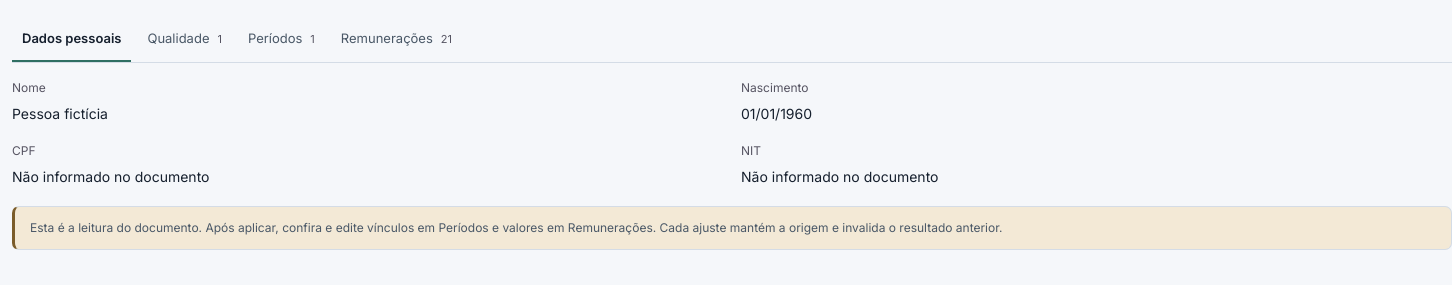
Scenario: CNIS source review › keeps absent end dates explicit and does not alter the imported source
This screenshot has width=1452, height=285.
Click the tab "Períodos1" at coordinates (281, 39), box [238, 16, 325, 62]
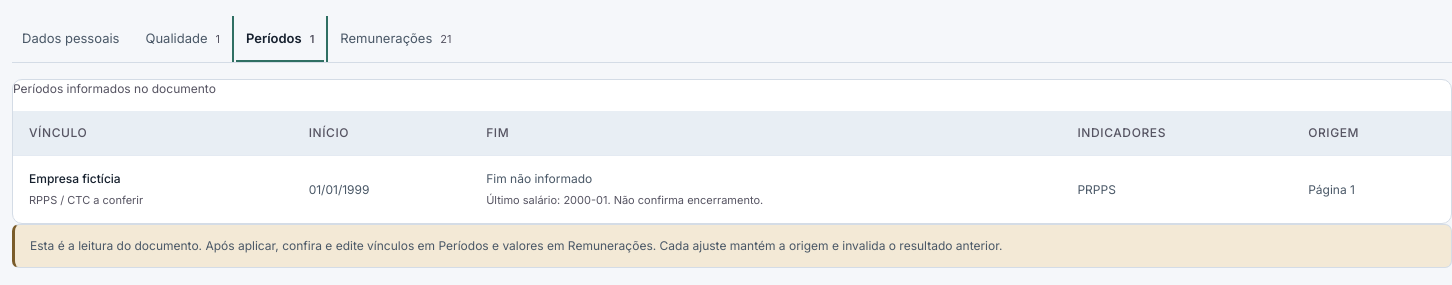
Expected: the text "Fim não informado" is shown, [486, 171, 592, 186]
Expected: the text "Último salário: 2000-01. Não confirma encerramento." is shown, [486, 193, 763, 207]
Expected: the text "RPPS / CTC a conferir" is shown, [29, 193, 143, 207]
